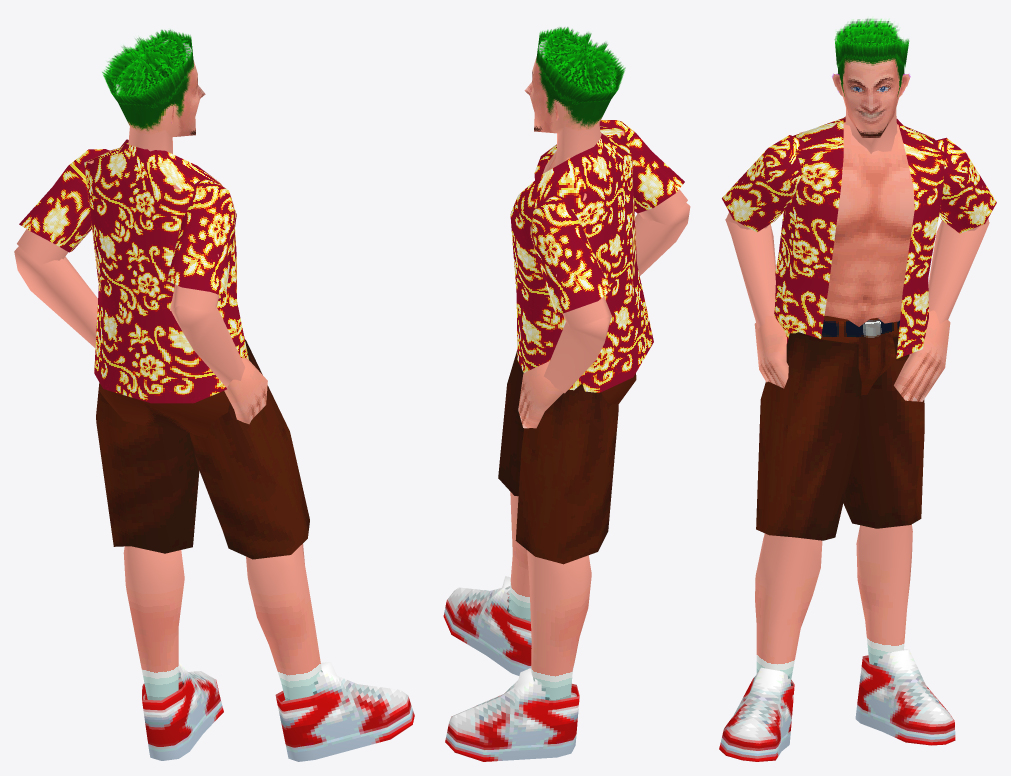
Rendered from driver-axel.glb.
The picture shows the model from 3 angles, left to right: view 1: azimuth 30°, elevation 25°; view 2: azimuth 150°, elevation 25°; view 3: azimuth 270°, elevation 25°; orthographic projection. The views are drawn at different scales.
Visible parts, largest first — view 1: m1183, m1189, m1186, m1187, m1188, m1185, m1180, m1184, m1173, m1172, m1167, m1190 (+7 smaller); view 2: m1183, m1186, m1184, m1185, m1173, m1187, m1167, m1165, m1172, m1180, m1189, m1164 (+7 smaller); view 3: m1189, m1183, m1182, m1186, m1188, m1184, m1185, m1167, m1187, m1180, m1173, m1172 (+6 smaller).
Part boxes in pixels (x1,y1,x2,y2): m1183: (84,139,248,403); m1189: (189,339,309,559); m1186: (96,382,199,553); m1187: (275,662,414,761); m1188: (246,544,321,700); m1185: (123,546,184,700); m1180: (167,179,236,298); m1184: (142,662,223,760); m1173: (19,149,109,252); m1172: (14,246,97,348); m1167: (116,40,205,153); m1190: (99,383,229,438); m1183: (510,126,653,392); m1186: (515,384,618,564); m1184: (445,668,579,761); m1185: (527,550,591,700); m1173: (529,195,610,315); m1187: (443,576,531,675); m1167: (524,39,612,166); m1165: (544,27,618,93); m1172: (544,317,611,393); m1180: (599,120,684,213); m1189: (498,350,523,496); m1164: (536,27,625,104); m1189: (756,332,861,540); m1183: (774,116,947,358); m1182: (799,122,940,326); m1186: (843,336,924,528); m1188: (755,533,822,681); m1184: (855,649,955,745); m1185: (856,524,912,665); m1167: (832,54,910,153); m1187: (719,667,794,761); m1180: (722,135,804,232); m1173: (933,137,996,233); m1172: (928,220,989,323).
Bounding box in the file's own units: 7.39 × 18.57 × 6.64.
Materials: 25 (24 with a texture image).
